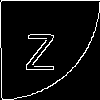Z: (25, 25, 55, 70)
